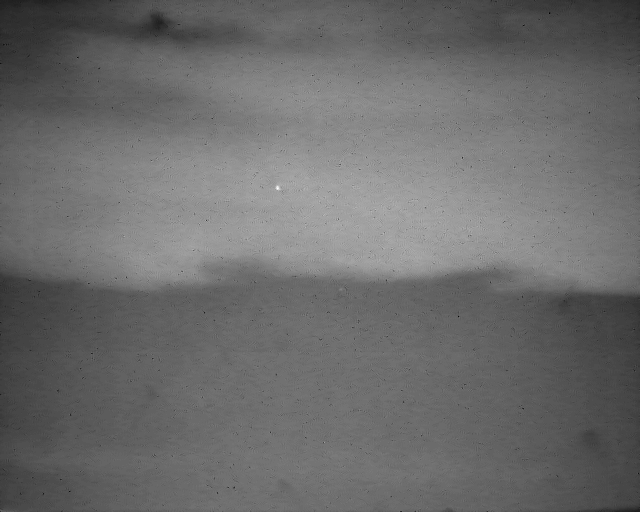Target: (276, 186, 281, 192)
